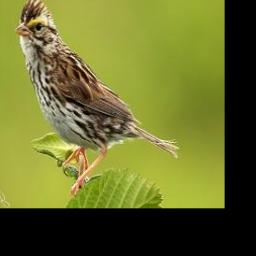Sparrow: (15, 0, 181, 199)
